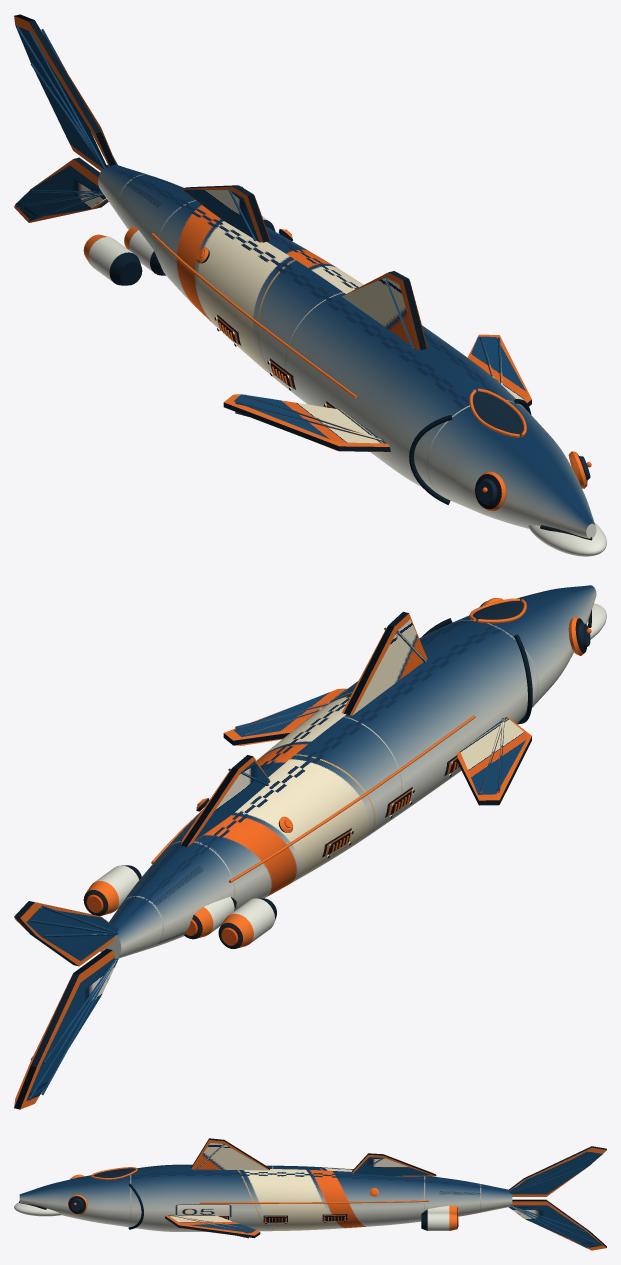
3 renders of one model, top to bottom at view 1: azimuth 30°, elevation 25°; view 2: azimuth 150°, elevation 25°; view 3: azimuth 270°, elevation 25°, orthographic. The views are drawn at different scales.
Visible parts, largest first — view 1: barracuda_hull; view 2: barracuda_hull; view 3: barracuda_hull.
Part boxes in pixels (x1,y1,x2,y2): barracuda_hull: [14, 14, 606, 556]; barracuda_hull: [14, 585, 606, 1109]; barracuda_hull: [14, 1138, 606, 1250].
Bounding box in the file's own units: 17.8 × 13.36 × 64.8.
Materials: 1 (1 with a texture image).
